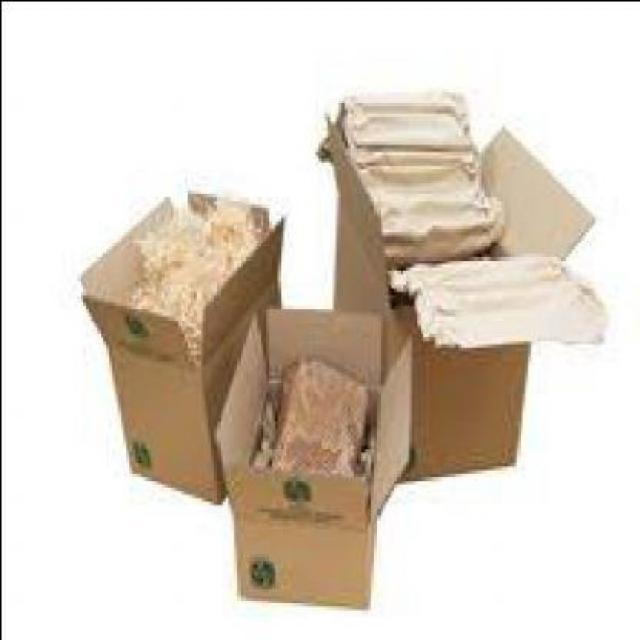box: (317, 85, 597, 483), (85, 189, 289, 503), (216, 305, 416, 606)
